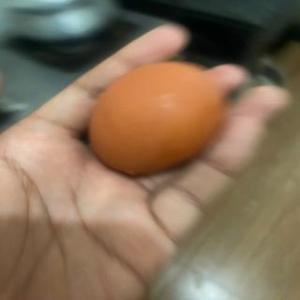egg: (80, 58, 228, 178)
